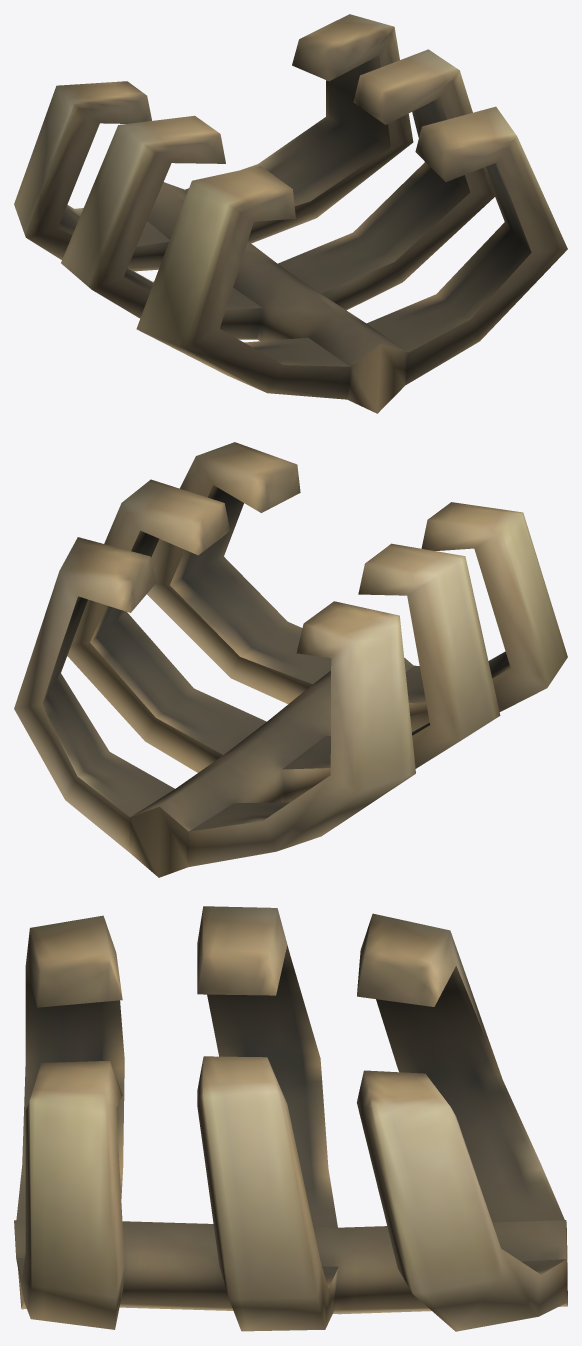
Rendered from A_CR_GEN_Skel_RibCage_01.fbx.
The picture shows the model from 3 angles, top to bottom: view 1: azimuth 30°, elevation 25°; view 2: azimuth 150°, elevation 25°; view 3: azimuth 270°, elevation 25°; orthographic projection. The views are drawn at different scales.
Visible parts, largest first — view 1: A_CR_GEN_Skel_RibCage_01; view 2: A_CR_GEN_Skel_RibCage_01; view 3: A_CR_GEN_Skel_RibCage_01.
Part boxes in pixels (x1,y1,x2,y2): A_CR_GEN_Skel_RibCage_01: (14,14,567,413); A_CR_GEN_Skel_RibCage_01: (14,442,567,877); A_CR_GEN_Skel_RibCage_01: (14,906,567,1331).
Bounding box in the file's own units: 64.75 × 38.44 × 61.44.
1 material, 1 textured.
